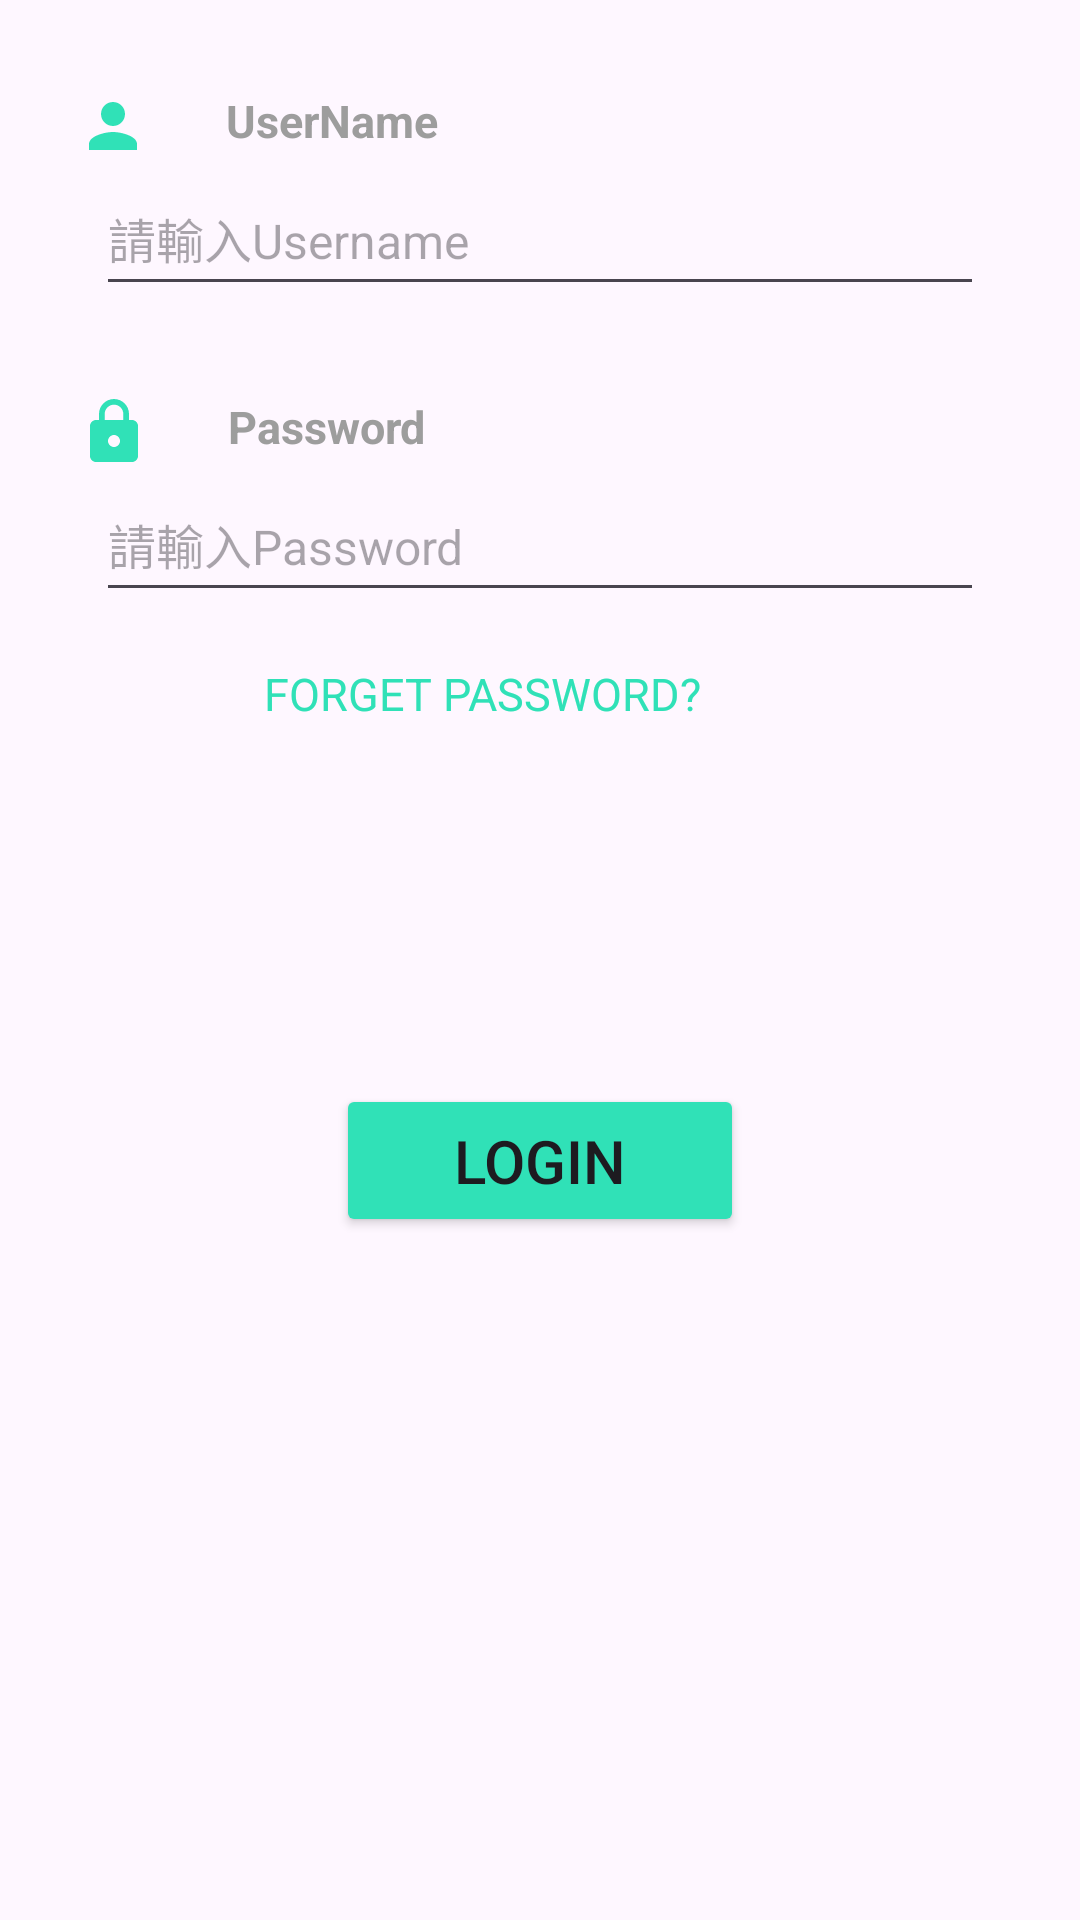

Named icons in this screenshot (1080px x 1920px) and their centers, (x=x, y=y):
lock: (x=114, y=430)
person: (x=113, y=126)
